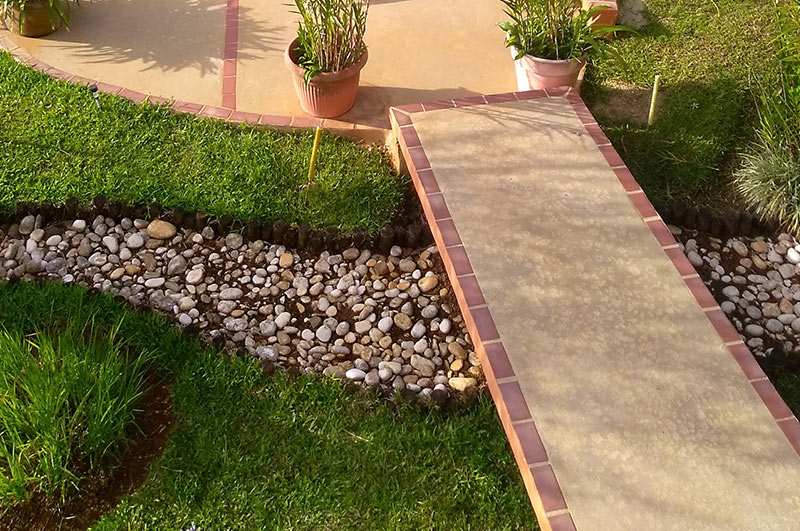grass: (3, 285, 536, 528), (0, 51, 408, 240), (601, 7, 795, 230)
rock: (0, 212, 479, 390), (677, 235, 799, 354)
